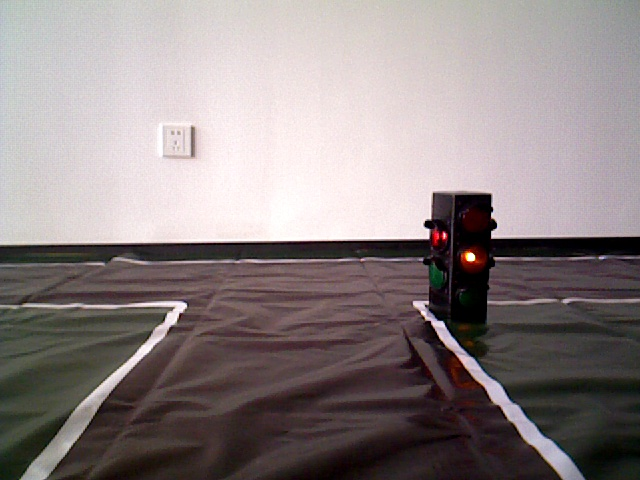yellow: (424, 195, 493, 318)
